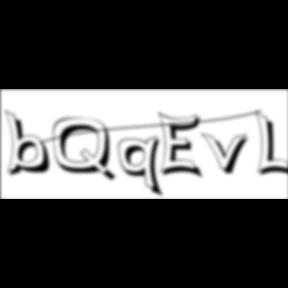E: (158, 110, 207, 182)
Q: (53, 117, 119, 184)
b: (4, 109, 58, 179)
q: (119, 135, 168, 200)
v: (201, 131, 255, 177)
